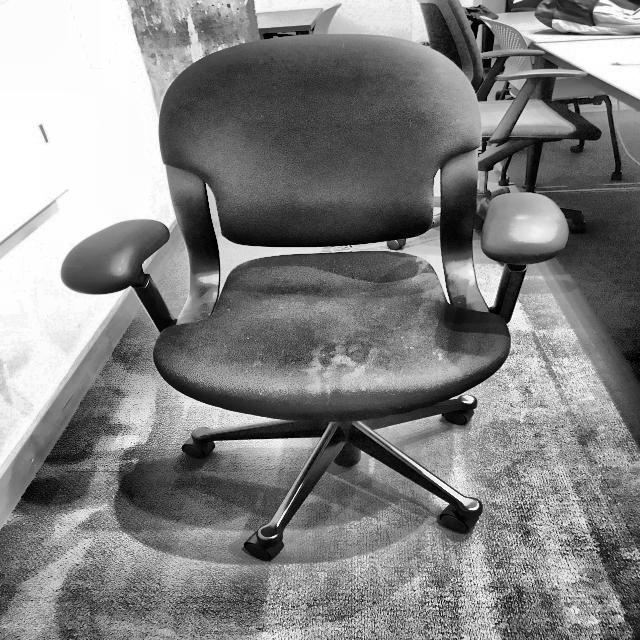chair: (58, 28, 570, 560)
